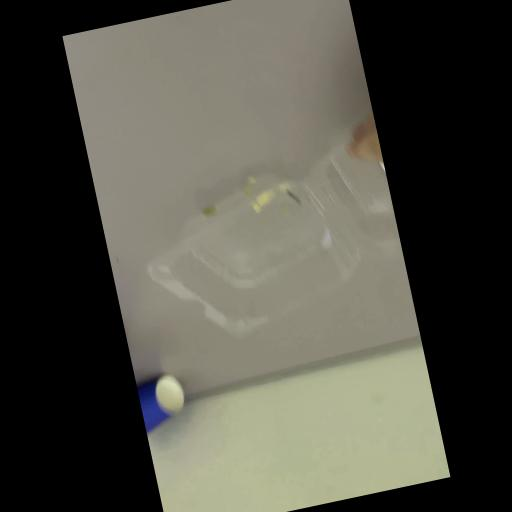lp_paper_cup: (136, 370, 192, 438)
small_plastic_container: (126, 133, 410, 351)
